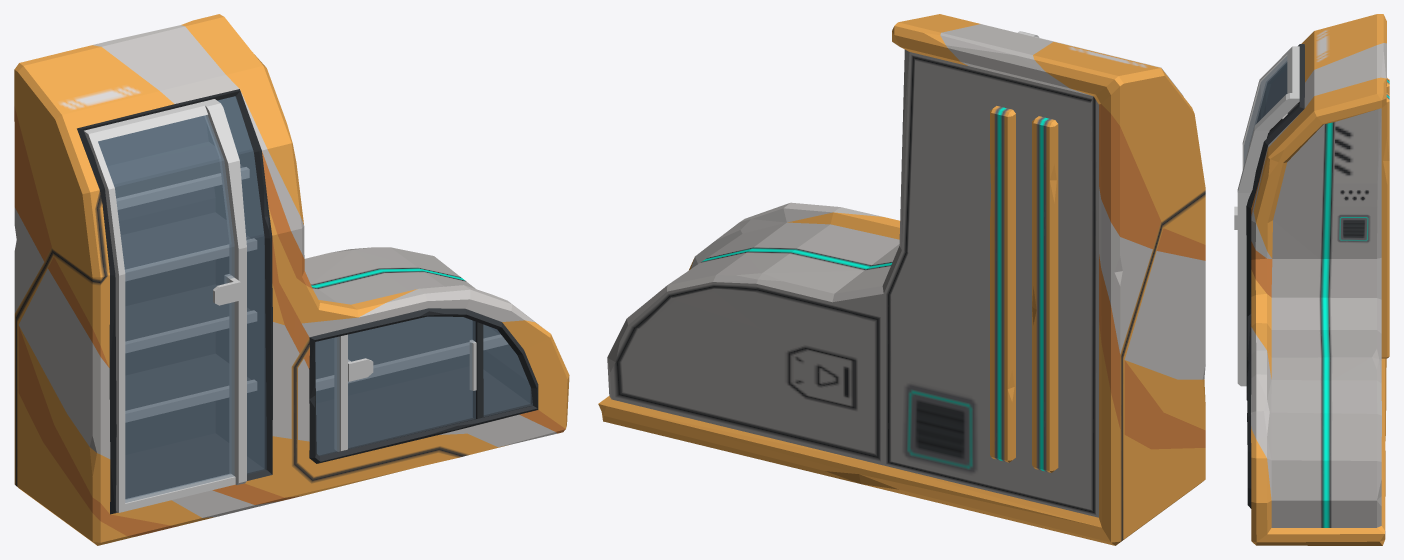
File: SM_Prop_Fridge_01.fbx
3 views of the same model, side by side, from view 1: azimuth 30°, elevation 25°; view 2: azimuth 150°, elevation 25°; view 3: azimuth 270°, elevation 25° (orthographic). The views are drawn at different scales.
Parts seen in each view (by area): view 1: SM_Prop_Fridge_01, SM_Prop_Fridge_01_Glass_01, SM_Prop_Fridge_01_Glass_02; view 2: SM_Prop_Fridge_01; view 3: SM_Prop_Fridge_01, SM_Prop_Fridge_01_Glass_01.
Boxes of the visible parts, bbox=[...] form: SM_Prop_Fridge_01: bbox=[14, 14, 569, 545]; SM_Prop_Fridge_01_Glass_01: bbox=[98, 115, 234, 502]; SM_Prop_Fridge_01_Glass_02: bbox=[348, 316, 475, 449]; SM_Prop_Fridge_01: bbox=[598, 14, 1205, 545]; SM_Prop_Fridge_01: bbox=[1234, 14, 1389, 545]; SM_Prop_Fridge_01_Glass_01: bbox=[1244, 56, 1287, 163].
Size of the model in its own units: 256 by 218 by 88.81.
